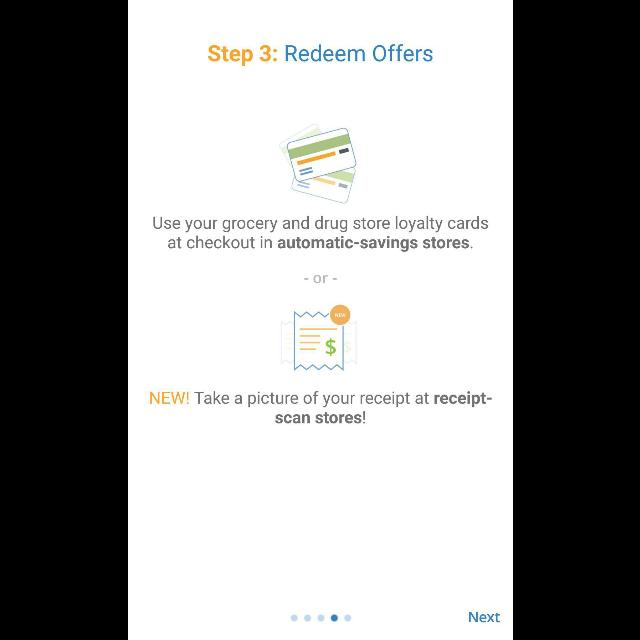image: (278, 123, 356, 203), (278, 304, 359, 372)
pageindicator: (289, 614, 351, 622)
text: (150, 215, 488, 253), (149, 390, 493, 426), (206, 44, 434, 66), (466, 611, 502, 625), (312, 274, 328, 284)
